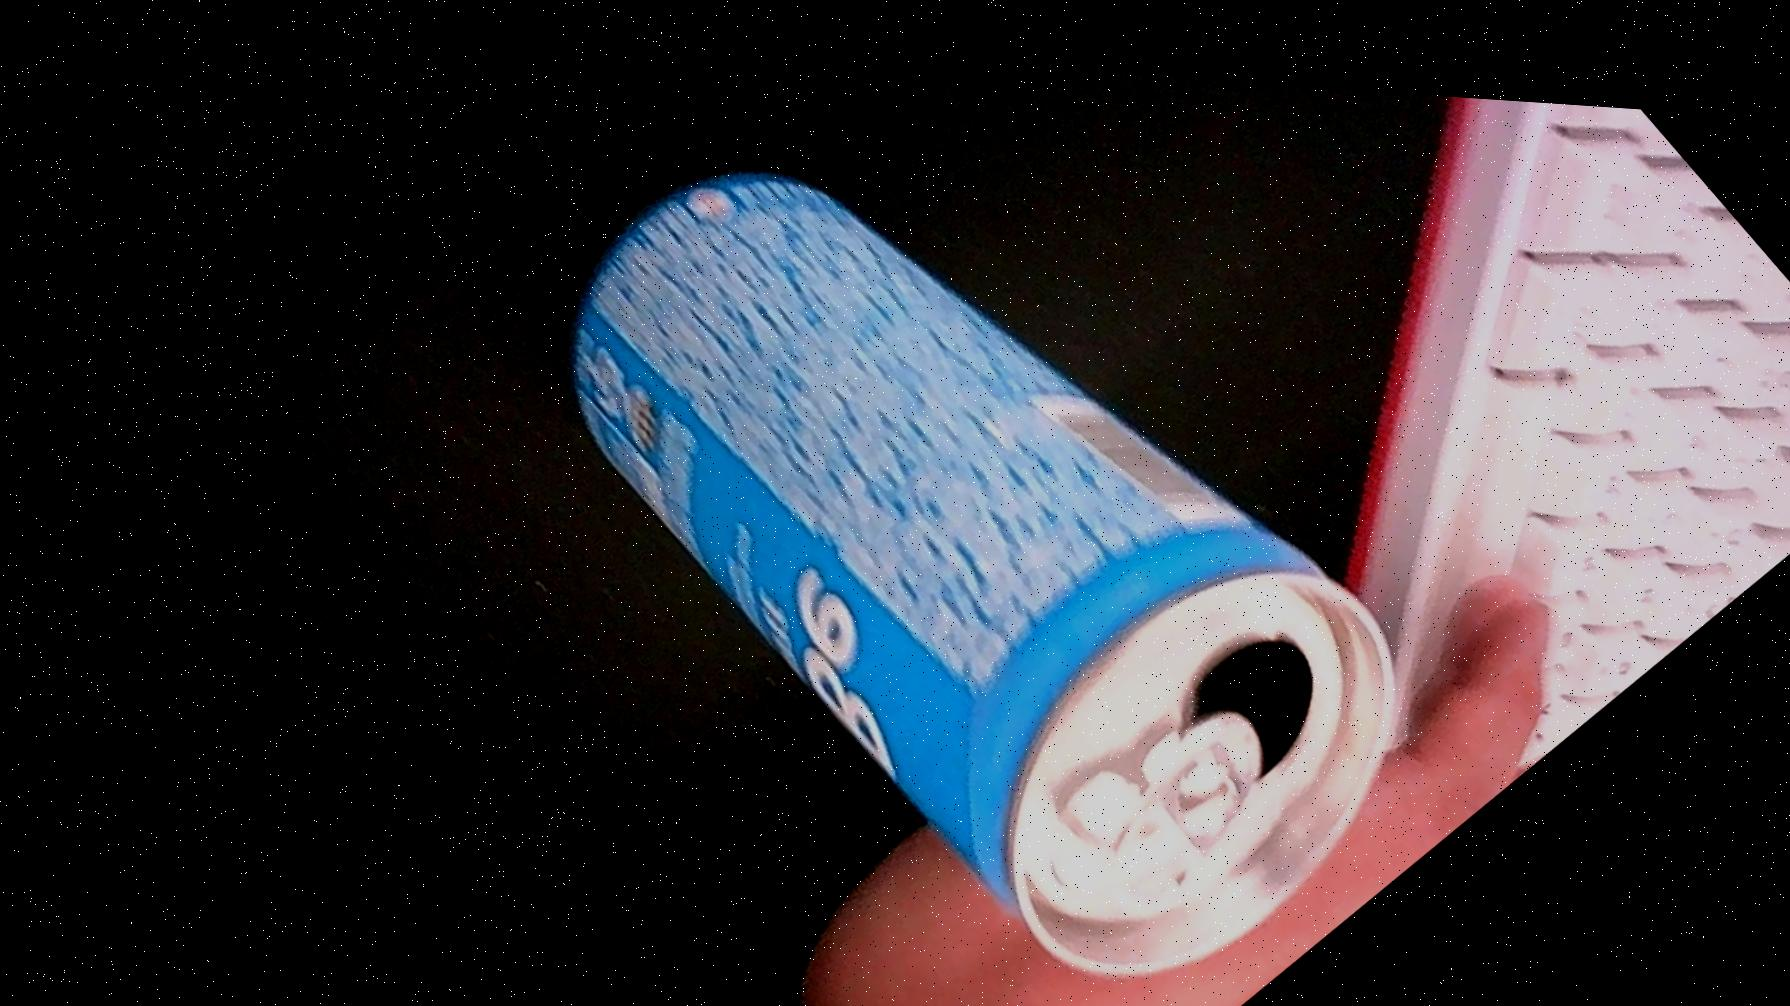letsbe: (475, 25, 1491, 1006)
